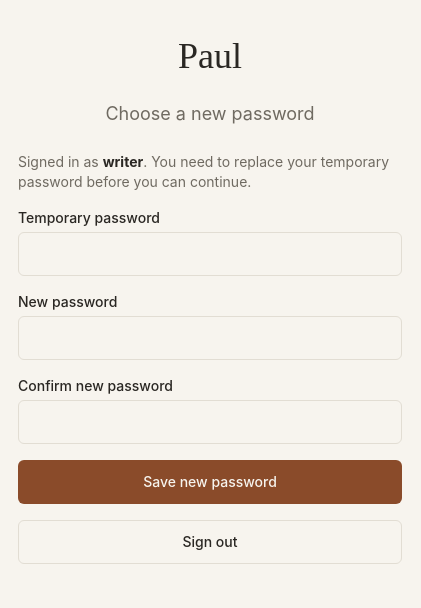
change password page › shows other server errors at the top of the form
This screenshot has width=421, height=608.
In the password field labelled "Temporary password": (210, 254) [18,232,402,276], type "same-same-same"
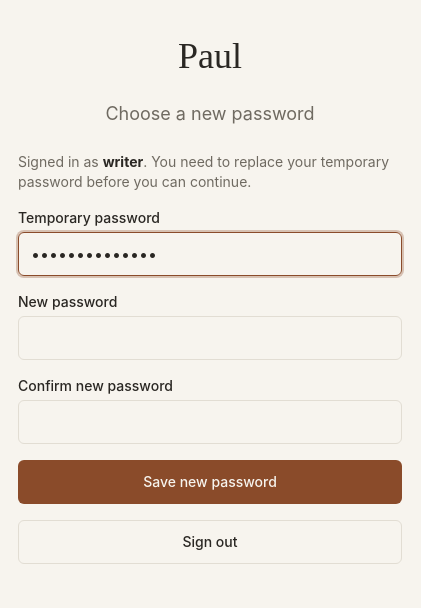
In the password field labelled "New password": (210, 338) [18,316,402,360], type "same-same-same"
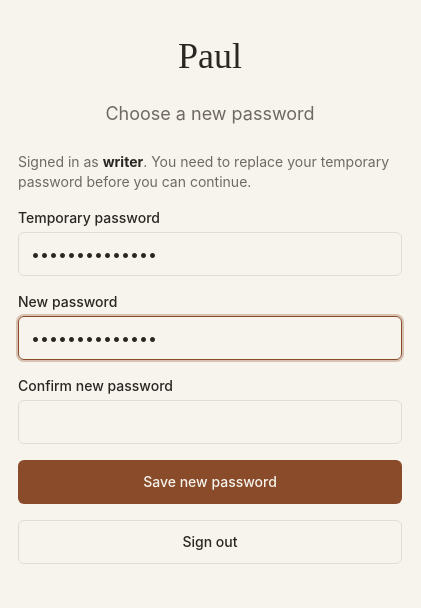
In the password field labelled "Confirm new password": (210, 422) [18,400,402,444], type "same-same-same"
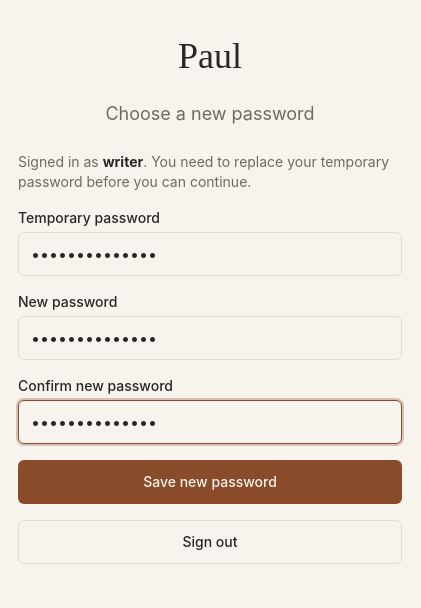
Click the button "Save new password": (210, 482) [18,460,402,504]
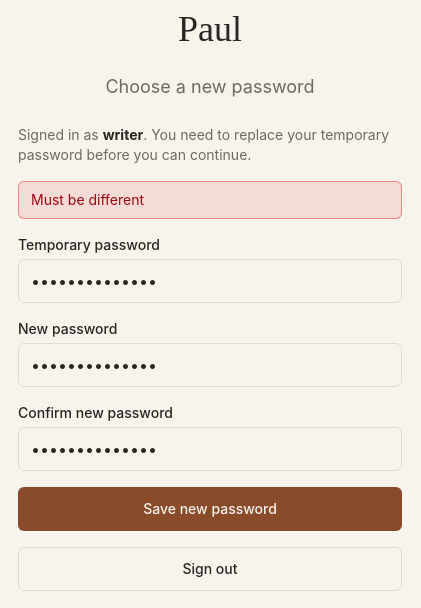
Check: the message reads "Must be different", box [31,191,144,208]
